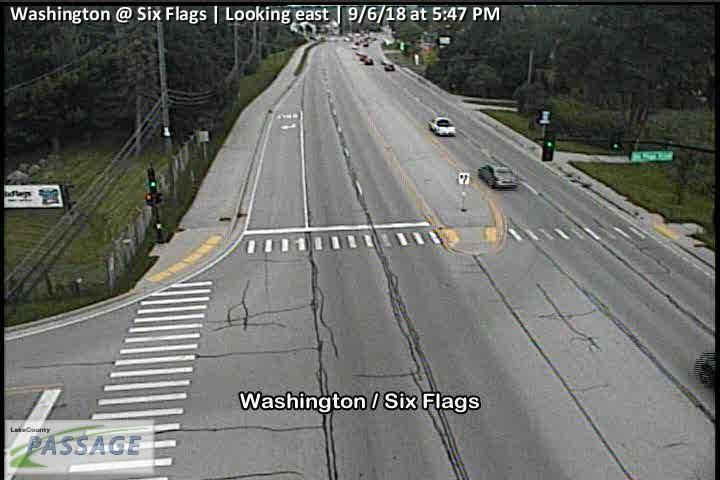SUV: (426, 115, 457, 137), (383, 62, 396, 71)
Sedan: (478, 161, 520, 191), (358, 52, 368, 60), (364, 58, 373, 66)
